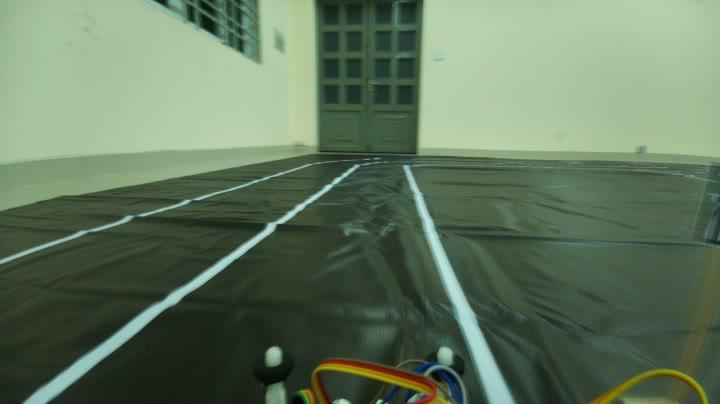highway_exit: (693, 162, 720, 246)
